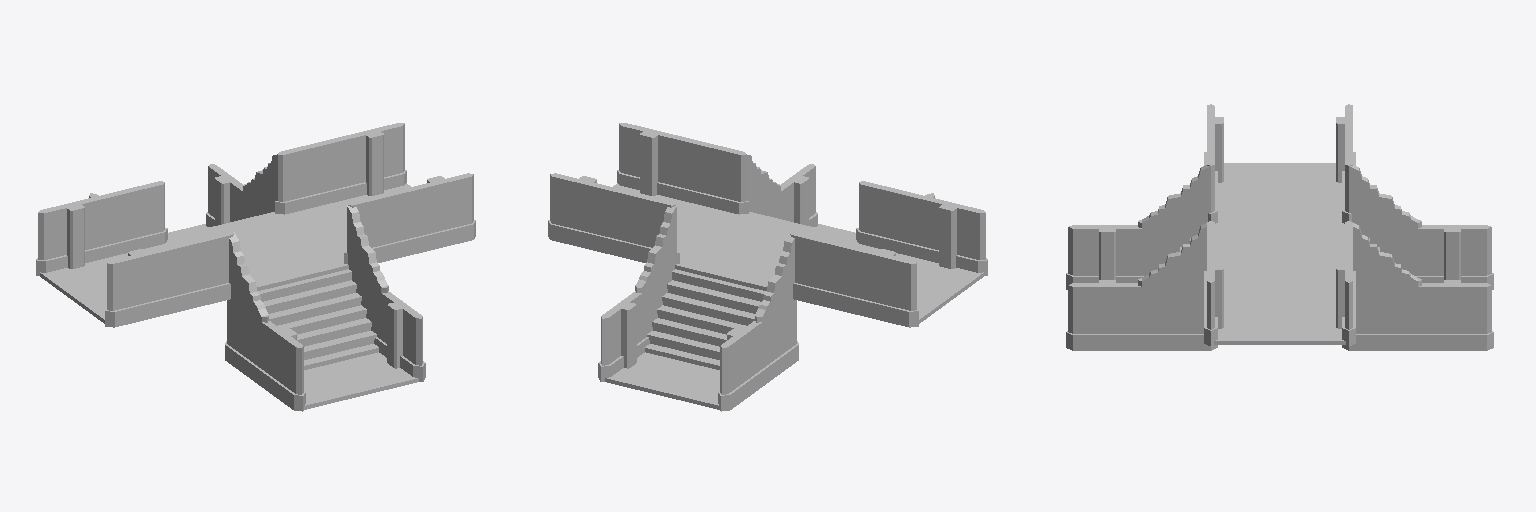
The model's file is intersection_4way_stair_03.obj.
3 views of the same model, side by side, from view 1: azimuth 30°, elevation 25°; view 2: azimuth 150°, elevation 25°; view 3: azimuth 270°, elevation 25° (orthographic).
Parts seen in each view (by area): view 1: stairs_01_131, floor_01_129, wall_02_144, wall_02_147, wall_02_143, wall_02_148, wall_01_139, wall_01_140, wall_01_142, floor_04_138, wall_01_141, wall_02_146 (+5 smaller); view 2: stairs_01_130, floor_01_129, wall_02_147, wall_02_144, wall_02_148, wall_01_141, wall_02_143, wall_01_142, wall_01_140, floor_04_137, wall_01_139, wall_02_145 (+5 smaller); view 3: stairs_01_131, stairs_01_130, floor_01_135, floor_01_133, floor_01_129, wall_02_149, wall_02_150, wall_02_145, wall_02_146, wall_02_143, wall_02_148, wall_02_144 (+2 smaller).
Boxes of the visible parts, <box> form: stairs_01_131: <box>225,205,388,384</box>; floor_01_129: <box>167,212,348,290</box>; wall_02_144: <box>105,246,173,327</box>; wall_02_147: <box>36,196,105,275</box>; wall_02_143: <box>407,173,475,253</box>; wall_02_148: <box>340,123,406,199</box>; wall_01_139: <box>275,137,344,214</box>; wall_01_140: <box>101,181,167,257</box>; wall_01_142: <box>167,232,233,312</box>; floor_04_138: <box>304,352,418,409</box>; wall_01_141: <box>344,188,414,263</box>; wall_02_146: <box>259,321,305,411</box>; stairs_01_130: <box>635,205,798,384</box>; floor_01_129: <box>675,212,861,290</box>; wall_02_147: <box>850,246,918,327</box>; wall_02_144: <box>919,196,987,275</box>; wall_02_148: <box>548,173,616,253</box>; wall_01_141: <box>679,137,748,214</box>; wall_02_143: <box>617,123,683,199</box>; wall_01_142: <box>856,181,922,257</box>; wall_01_140: <box>790,232,856,312</box>; floor_04_137: <box>605,352,719,409</box>; wall_01_139: <box>609,188,679,263</box>; wall_02_145: <box>718,321,764,411</box>; stairs_01_131: <box>1138,164,1217,350</box>; stairs_01_130: <box>1342,164,1421,350</box>; floor_01_135: <box>1215,163,1344,224</box>; floor_01_133: <box>1214,279,1345,344</box>; floor_01_129: <box>1215,221,1344,282</box>; wall_02_149: <box>1417,280,1493,350</box>; wall_02_150: <box>1066,280,1142,350</box>; wall_02_145: <box>1418,225,1493,289</box>; wall_02_146: <box>1066,225,1141,289</box>; wall_02_143: <box>1204,251,1223,345</box>; wall_02_148: <box>1336,252,1355,345</box>; wall_02_144: <box>1204,104,1223,182</box>.
Bounding box in the file's own units: 6.21 × 2 × 6.21.